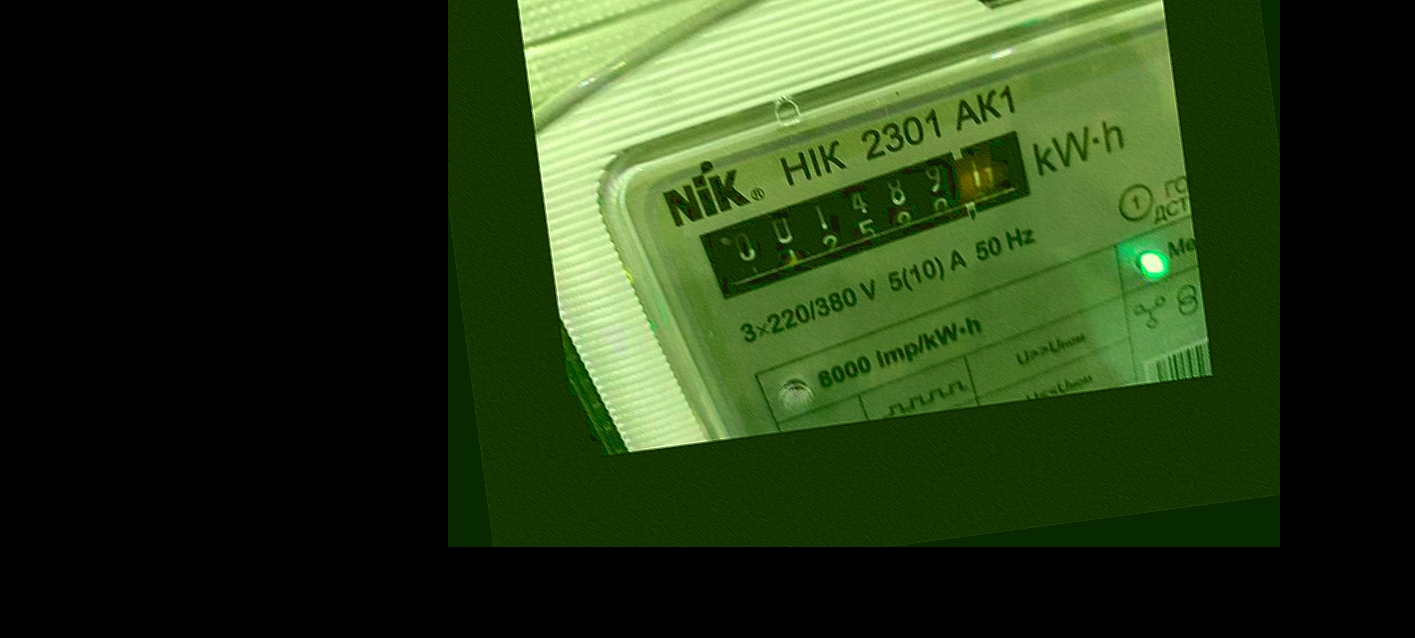0: (767, 207, 797, 246), (731, 226, 760, 264)
1: (964, 150, 988, 190), (810, 198, 834, 232)
4: (846, 183, 872, 217)
8: (885, 170, 911, 208)
9: (923, 159, 947, 193)
screen: (679, 114, 1071, 313)
